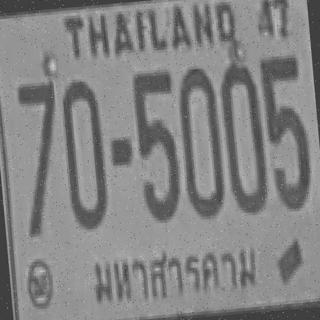N00: (57, 78, 108, 228), (175, 65, 224, 218), (218, 59, 267, 212)
N05: (258, 52, 312, 210), (131, 68, 182, 222)
N07: (15, 79, 64, 229), (15, 80, 60, 191), (15, 78, 59, 176)
P25: (82, 235, 262, 312)
